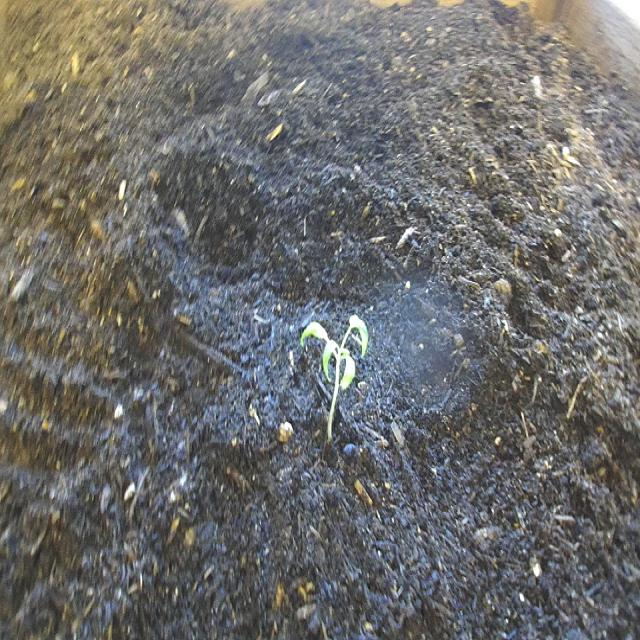Healthy: (294, 302, 376, 453)
